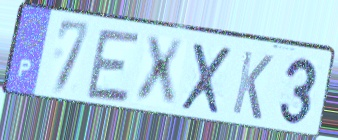3: (276, 55, 321, 130)
7: (45, 18, 92, 101)
E: (84, 26, 144, 107)
K: (229, 48, 276, 123)
X: (178, 39, 235, 118), (134, 34, 187, 110)
